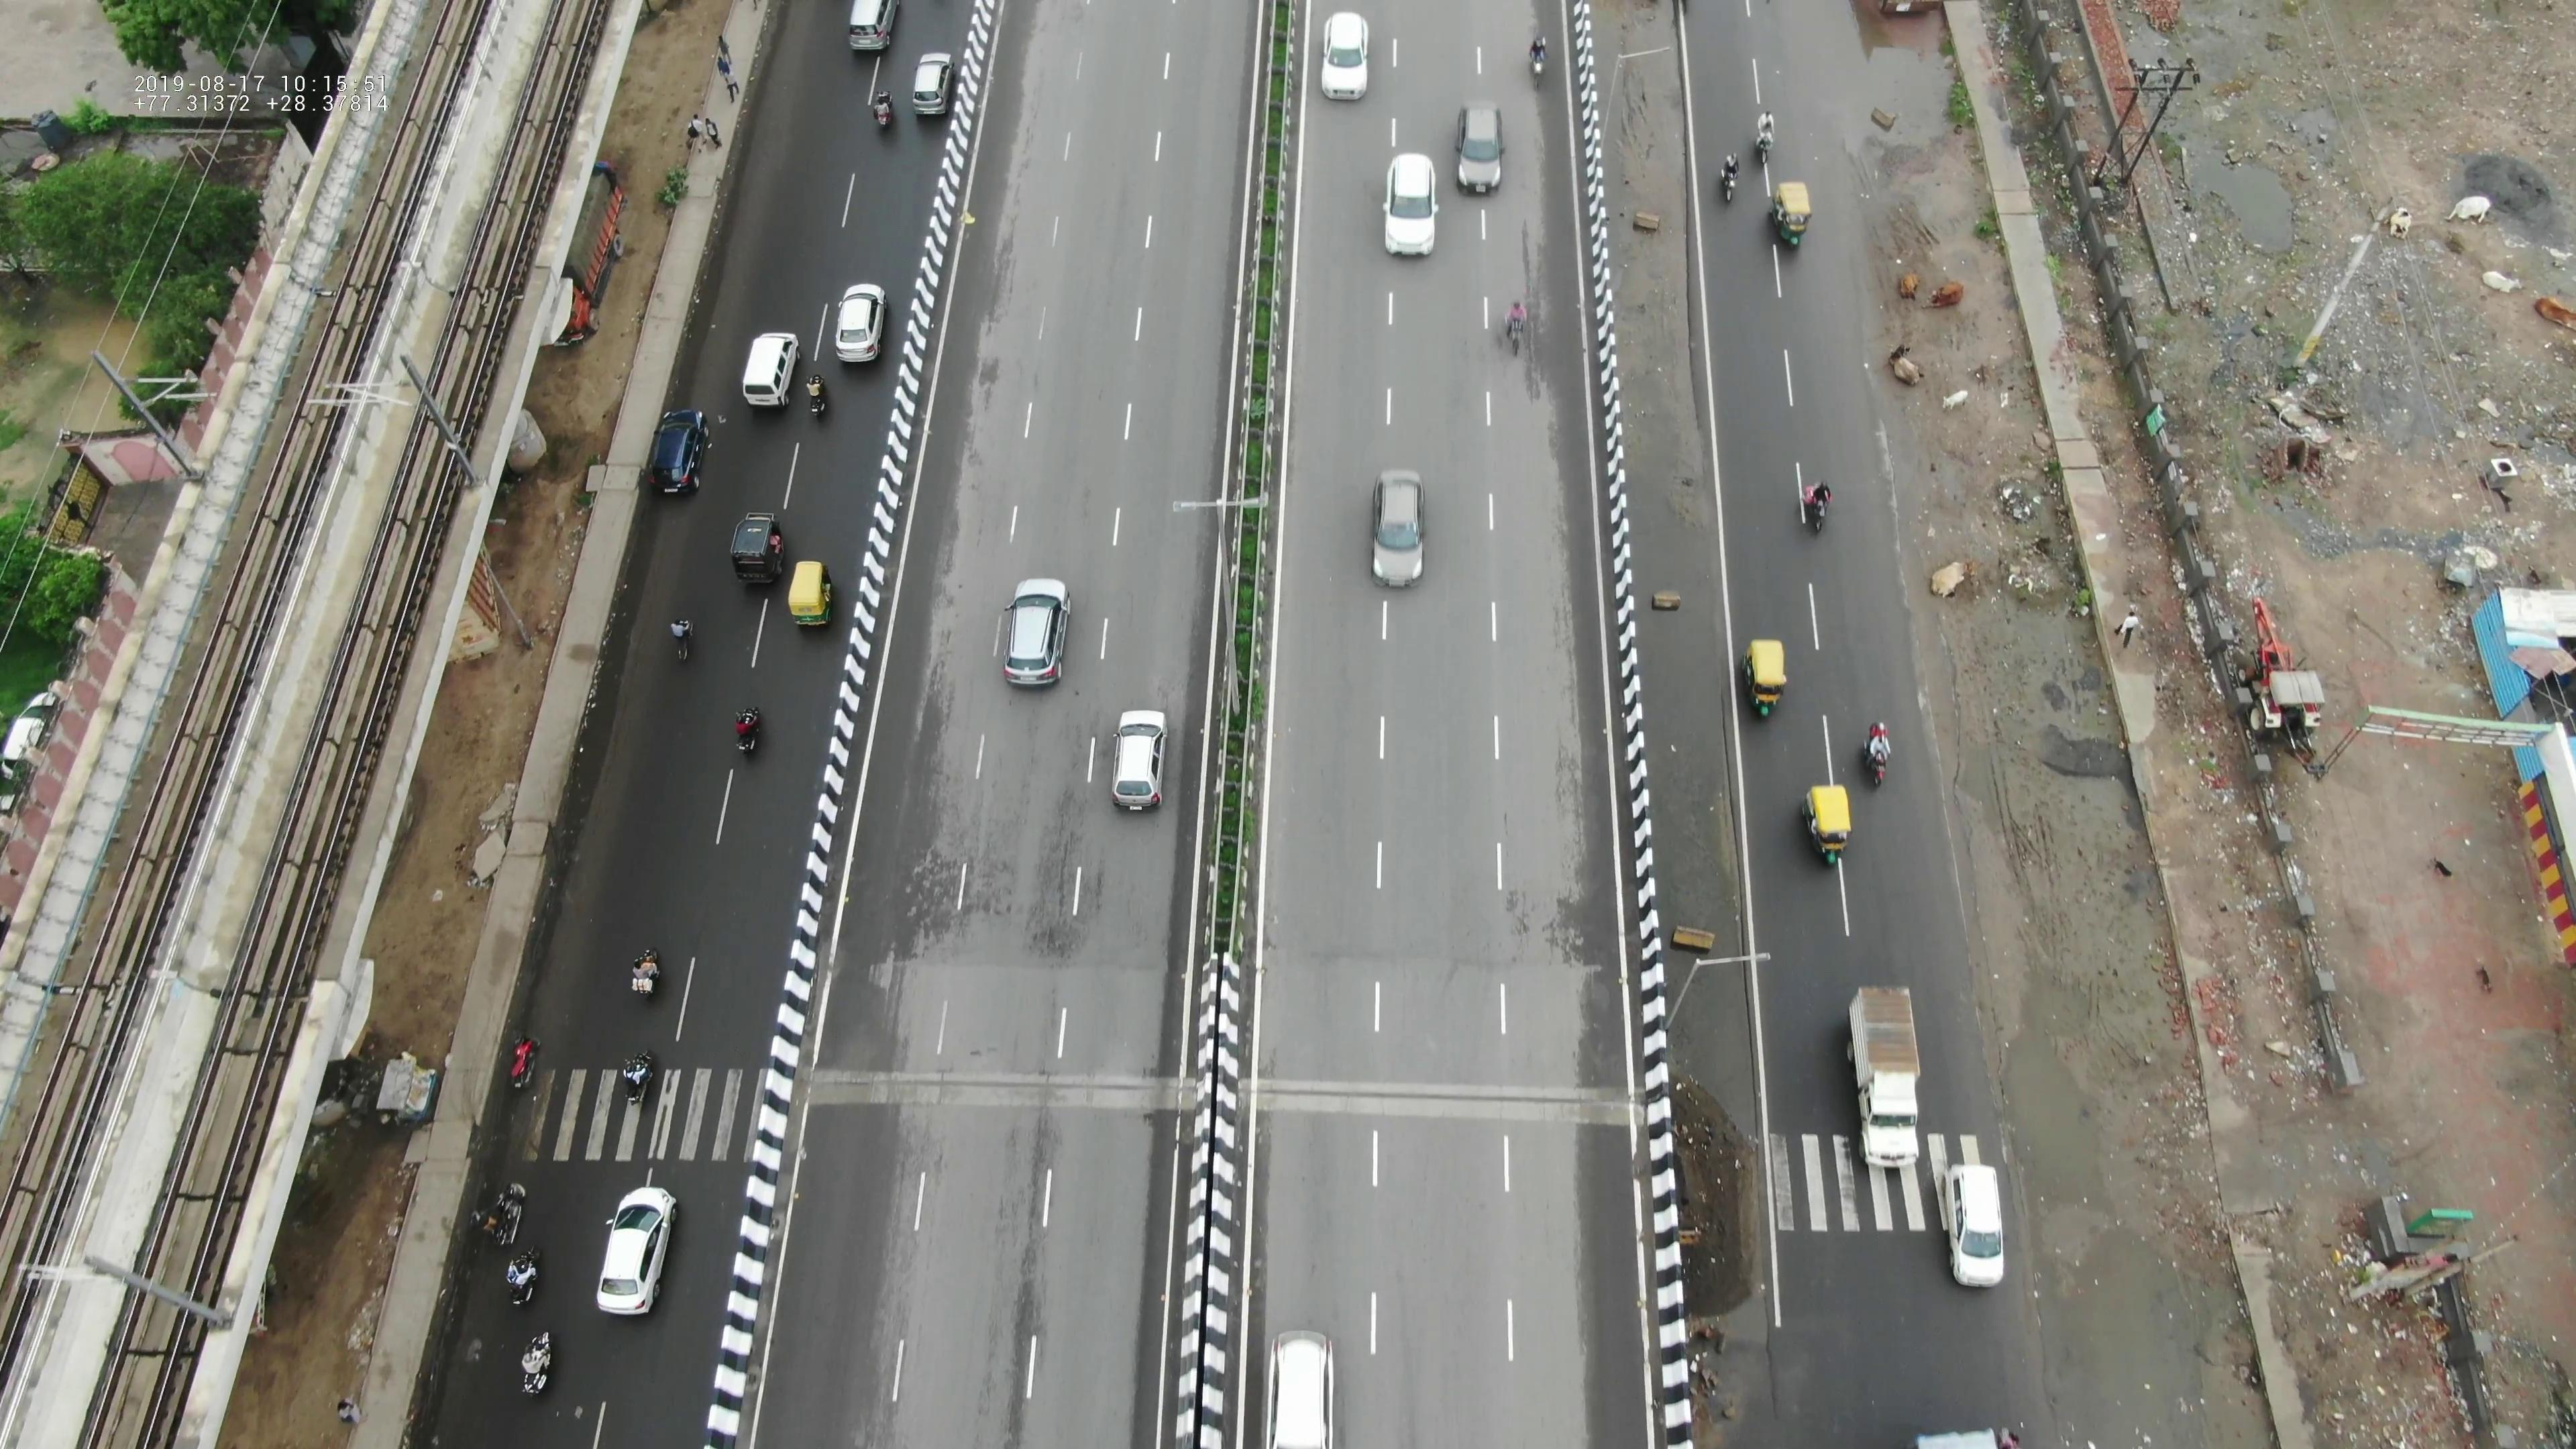Muddy_road: (1941, 683, 2135, 1001), (1863, 163, 2022, 412), (1936, 418, 2072, 678)
Ravelling: (962, 1164, 1088, 1438), (1021, 809, 1093, 936), (1500, 235, 1552, 412)
Waterlogging: (1992, 1063, 2199, 1426)
